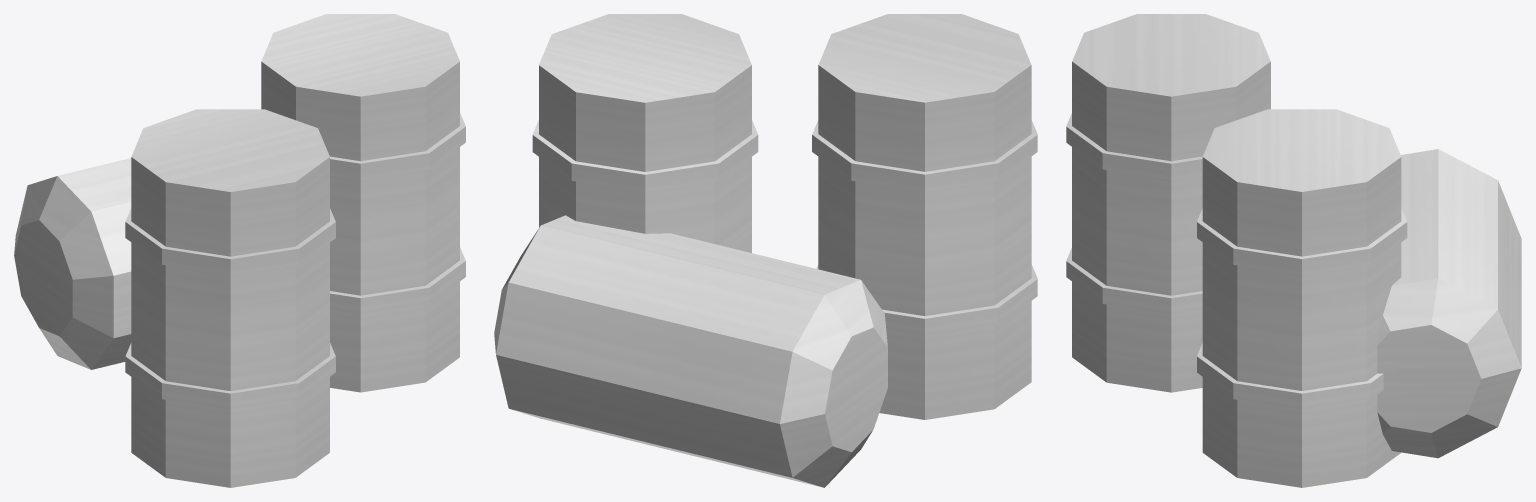
The model's file is ruin_barrels.obj.
The picture shows the model from 3 angles, left to right: view 1: azimuth 30°, elevation 25°; view 2: azimuth 150°, elevation 25°; view 3: azimuth 270°, elevation 25°; orthographic projection. The views are drawn at different scales.
Parts seen in each view (by area): view 1: ruin_barrels; view 2: ruin_barrels; view 3: ruin_barrels.
Part boxes in pixels (x1,y1,x2,y2): ruin_barrels: (14, 14, 465, 487); ruin_barrels: (494, 14, 1037, 487); ruin_barrels: (1066, 14, 1521, 487).
Size of the model in its own units: 0.7291 by 0.55 by 0.7673.
